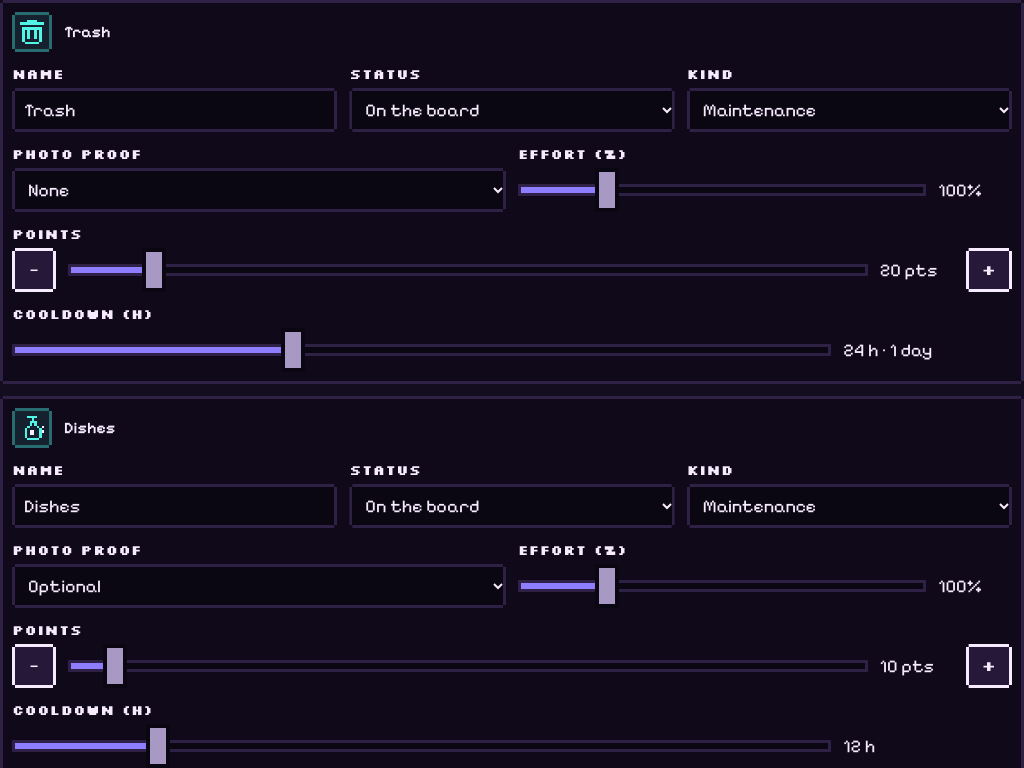
Test: BountyBulkEditor › unmarks the row when + then − bring the points back to the bounty's own
Click the button "+" next to "20 pts" at (989, 270), box [966,248,1012,292]
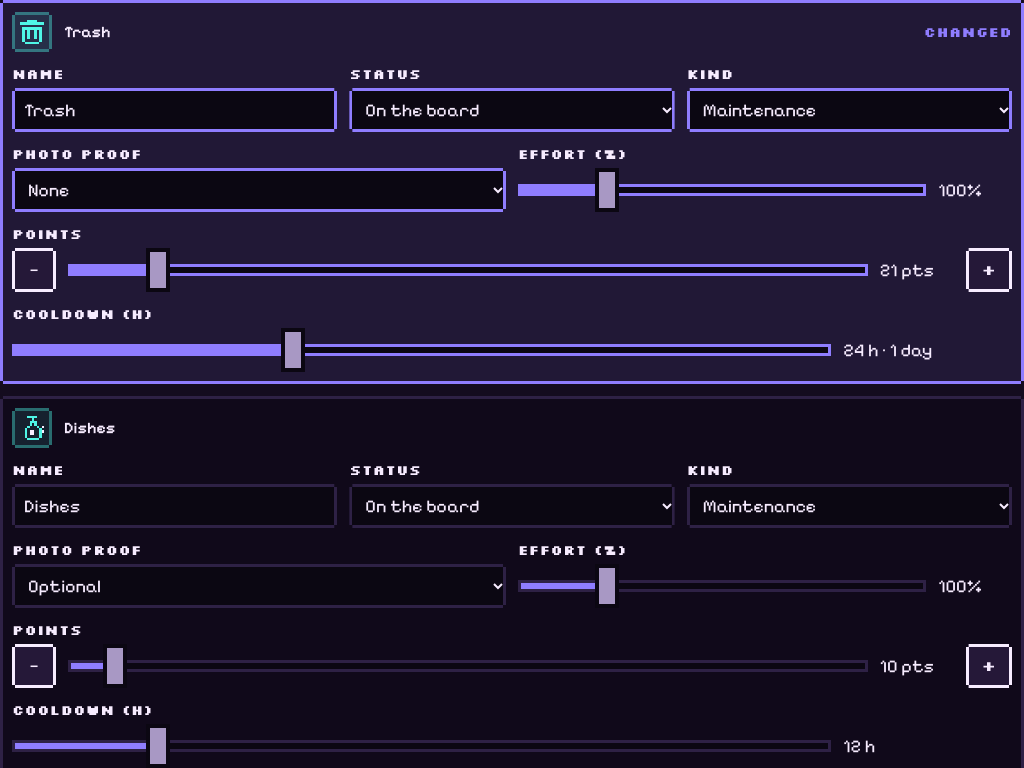
Click the button "−" in the row of "21 pts" at (34, 270), box [12,248,56,292]
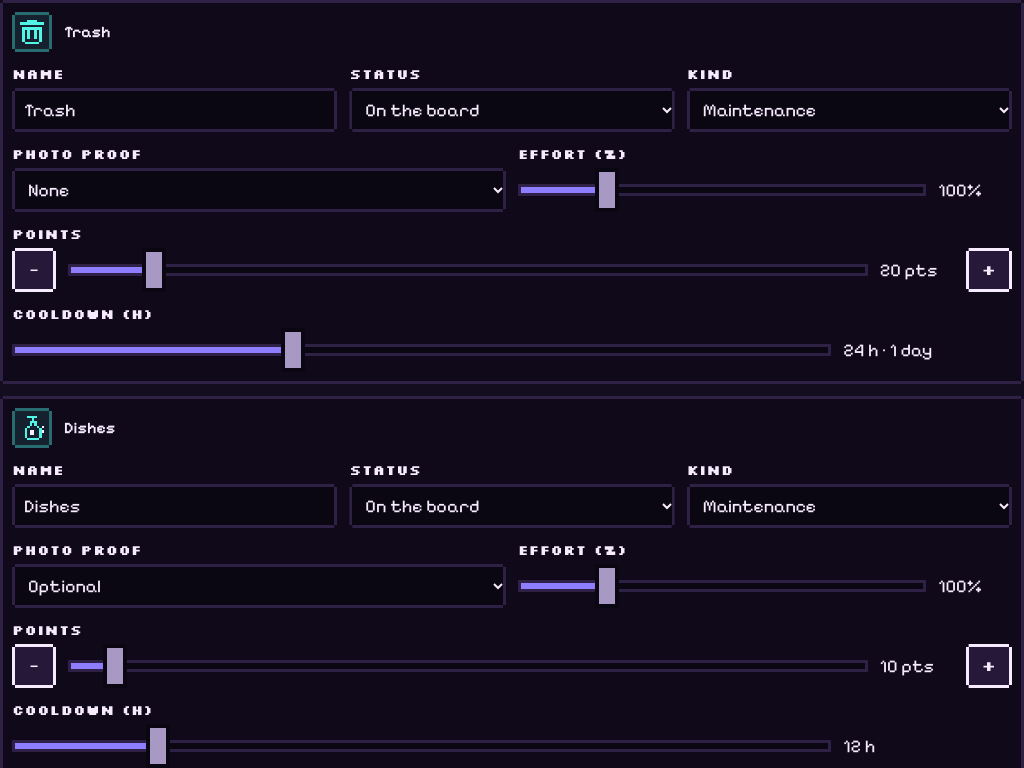
Expected: the text "20 pts" is shown, [880,259,937,281]
